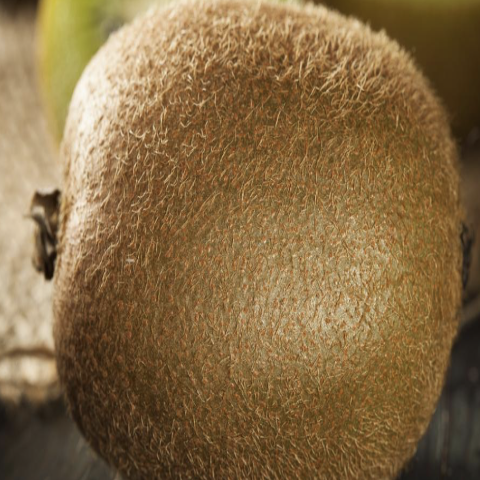kiwi: (8, 5, 477, 480)
